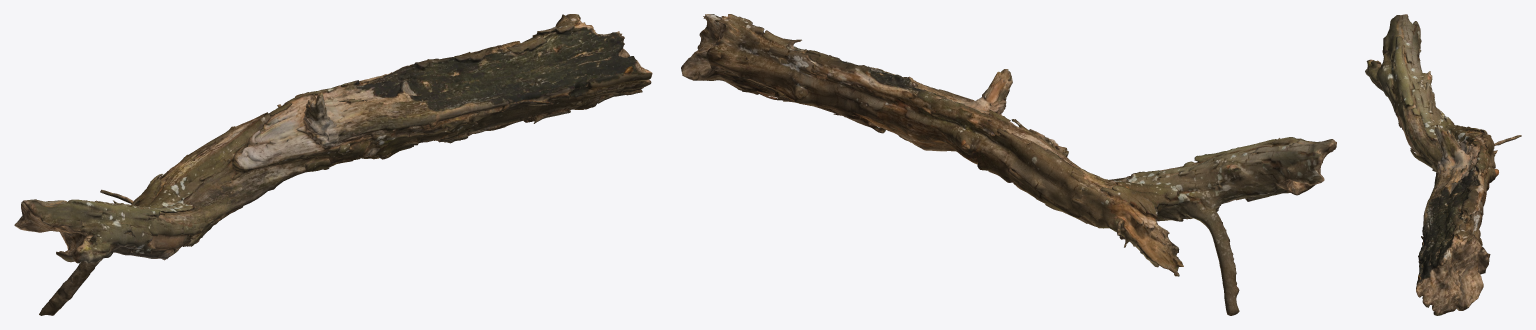
The model's file is dead_tree_trunk_02.glb.
3 views of the same model, side by side, from view 1: azimuth 30°, elevation 25°; view 2: azimuth 150°, elevation 25°; view 3: azimuth 270°, elevation 25° (orthographic). The views are drawn at different scales.
Parts seen in each view (by area): view 1: dead_tree_trunk_02; view 2: dead_tree_trunk_02; view 3: dead_tree_trunk_02.
Part boxes in pixels (left/top/right/bottom): dead_tree_trunk_02: left=14, top=14, right=652, bottom=315; dead_tree_trunk_02: left=681, top=14, right=1336, bottom=315; dead_tree_trunk_02: left=1365, top=14, right=1521, bottom=315.
Bounding box in the file's own units: 4.05 × 1.05 × 1.06.
1 material, 1 textured.
